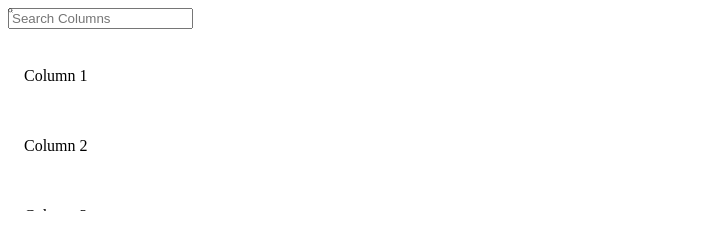
Test: Columns component › renders no results found message when no columns match search term
In the field with placeholder "Search Columns": (100, 18) [8, 8, 193, 29], type "Column 4"
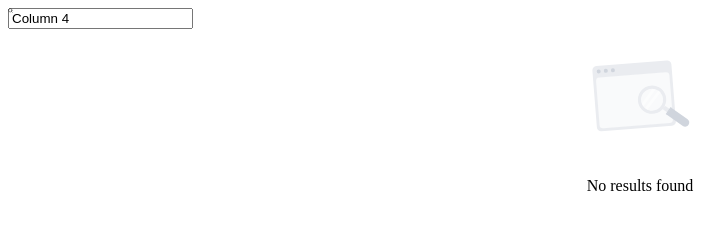
Now the text "No results found" is shown, box [587, 177, 693, 195]
